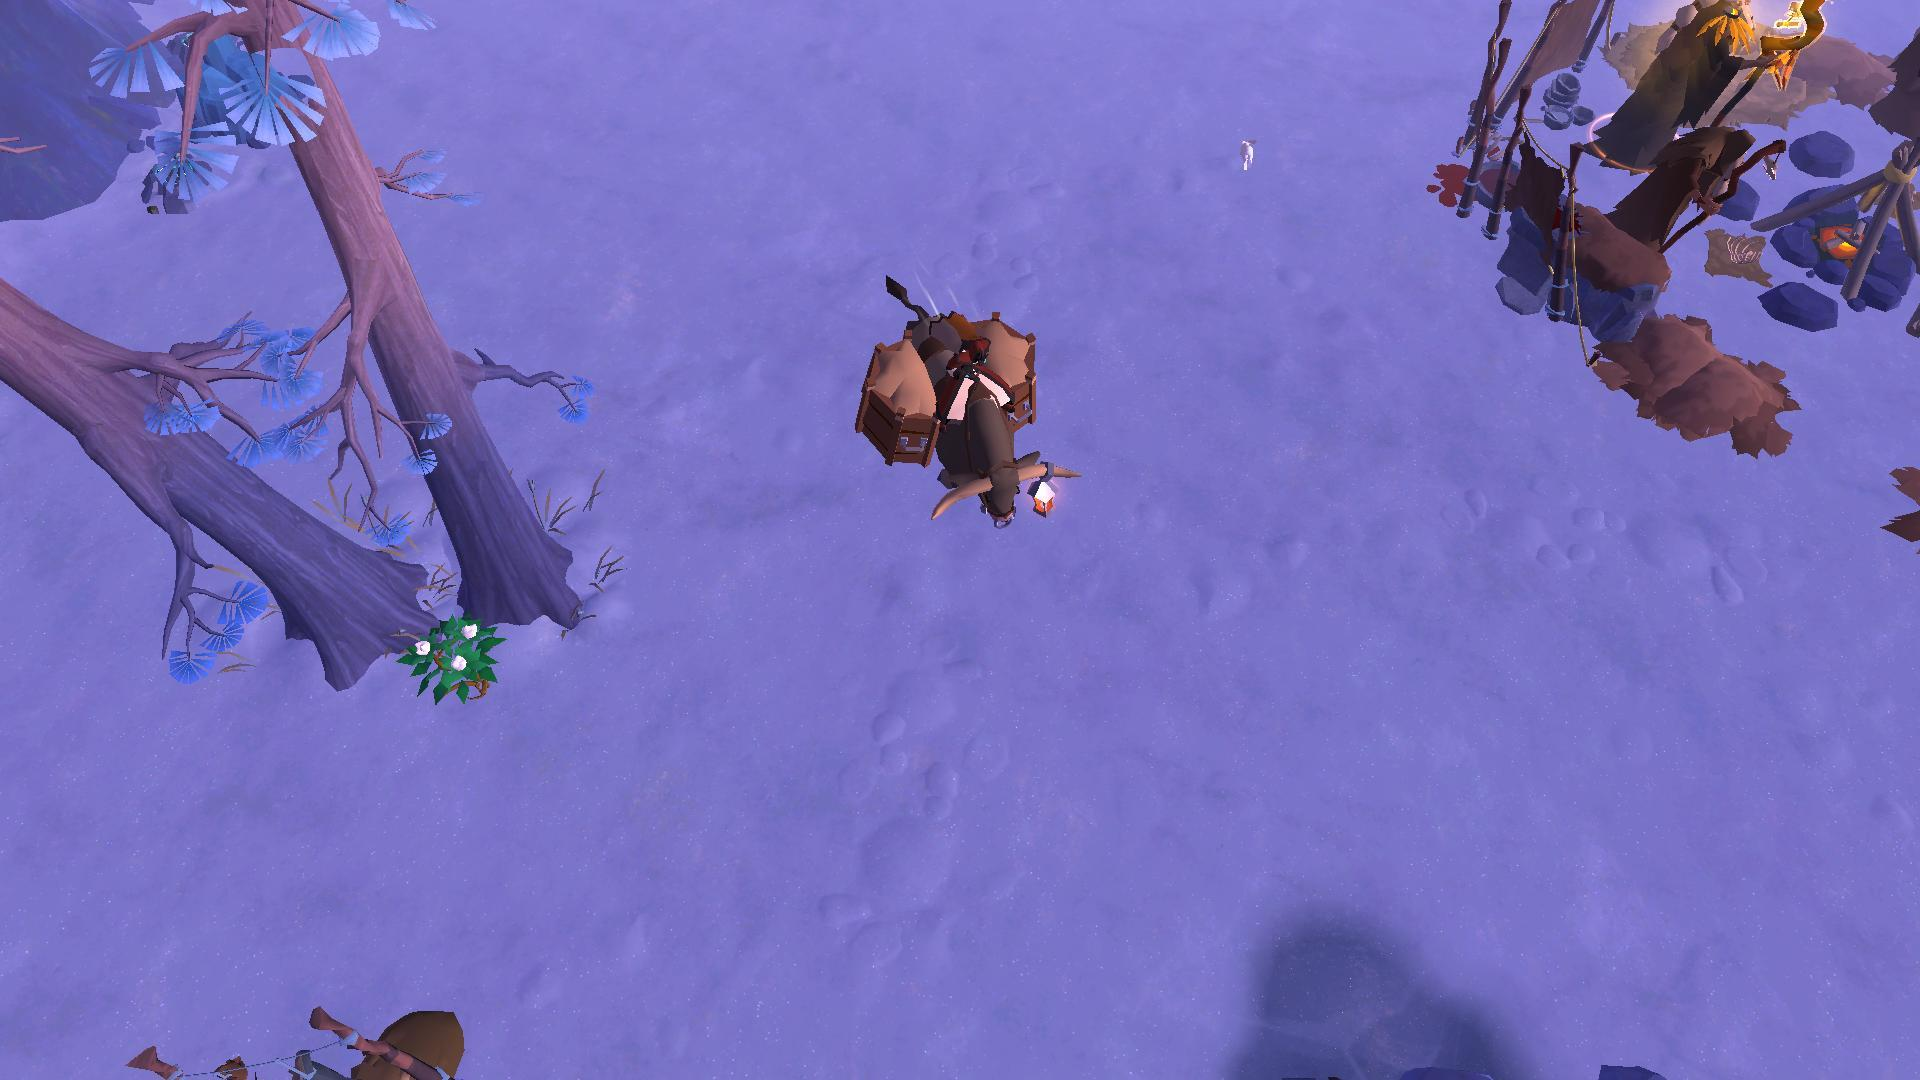enemy_factionKeeper: (1584, 0, 1833, 165), (1610, 127, 1780, 256)
fiber_t3: (401, 609, 496, 715)
